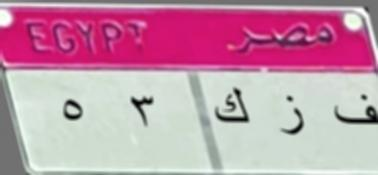3: (128, 88, 160, 134)
5: (55, 92, 89, 132)
faa: (331, 92, 378, 130)
kaaf: (210, 84, 256, 133)
zay: (276, 90, 308, 143)
